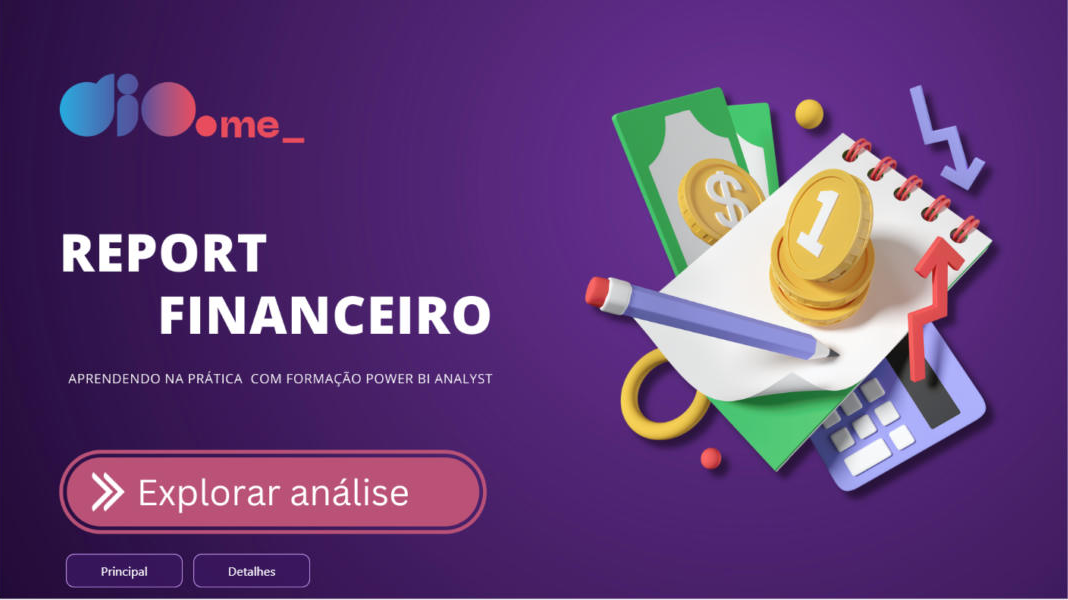

Layout of this report page (visuals, bound fields, positions):
{"tool":"powerbi","page":{"name":"Home page","canvas":[1280,720],"ordinal":0},"visuals":[{"type":"image","box":[0,0,1279.9,720],"z":0},{"type":"actionButton","box":[88,531.7,491.4,114.9],"z":1000},{"type":"actionButton","title":"Menu - Principal","box":[88,662,138,40],"z":20000},{"type":"actionButton","title":"Menu - Detalhes","box":[238,662,138,40],"z":20010}]}

Visuals, with their boxes in screenshot pixels (x1, y1, x2, y2), scaled from the page's 1280x720 canvas onto the 1068x600 screenshot:
image: <bbox>0, 0, 1067, 599</bbox>
actionButton: <bbox>73, 443, 483, 539</bbox>
"Menu - Principal" actionButton: <bbox>73, 552, 189, 585</bbox>
"Menu - Detalhes" actionButton: <bbox>199, 552, 314, 585</bbox>
